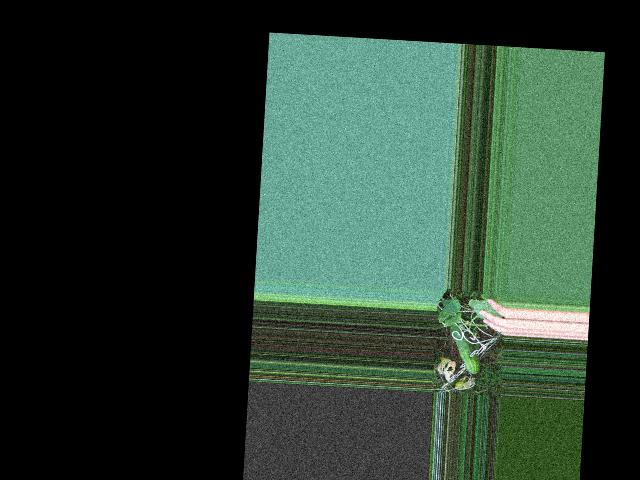cucumber: (447, 323, 483, 374)
